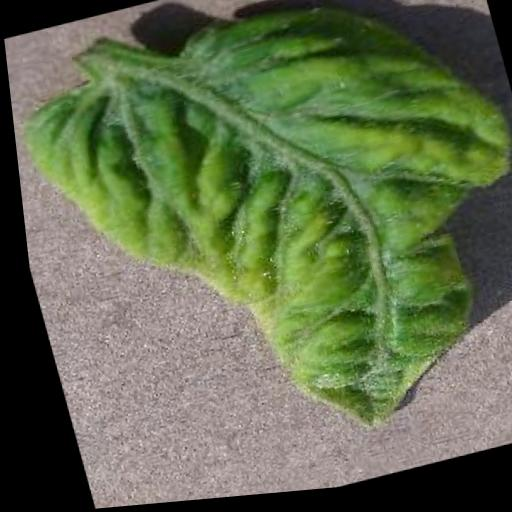Yellow Leaf Curl Virus: (0, 0, 512, 499)
